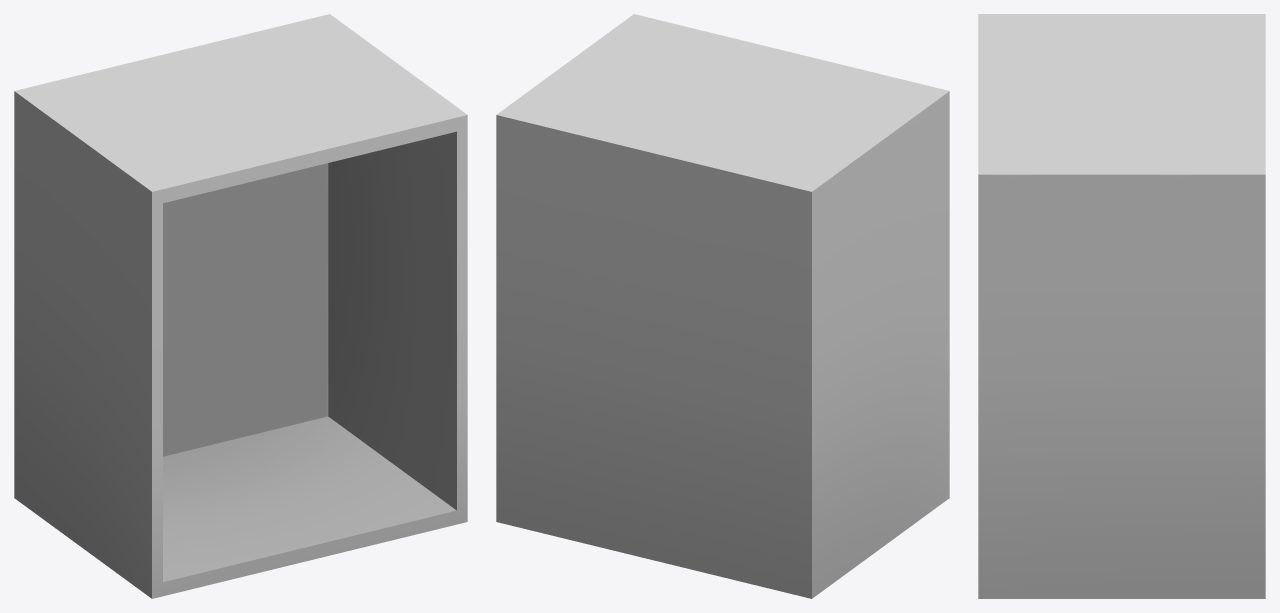
File: Chest8.FBX
3 renders of one model, left to right at view 1: azimuth 30°, elevation 25°; view 2: azimuth 150°, elevation 25°; view 3: azimuth 270°, elevation 25°, orthographic. The views are drawn at different scales.
Visible parts, largest first — view 1: chestbox8; view 2: chestbox8; view 3: chestbox8.
Boxes of the visible parts, x1=… form: chestbox8: x1=14, y1=14, x2=467, y2=598; chestbox8: x1=496, y1=14, x2=949, y2=598; chestbox8: x1=978, y1=14, x2=1265, y2=598.
Bounding box in the file's own units: 19.21 × 23.68 × 14.54.
1 material, 1 textured.
